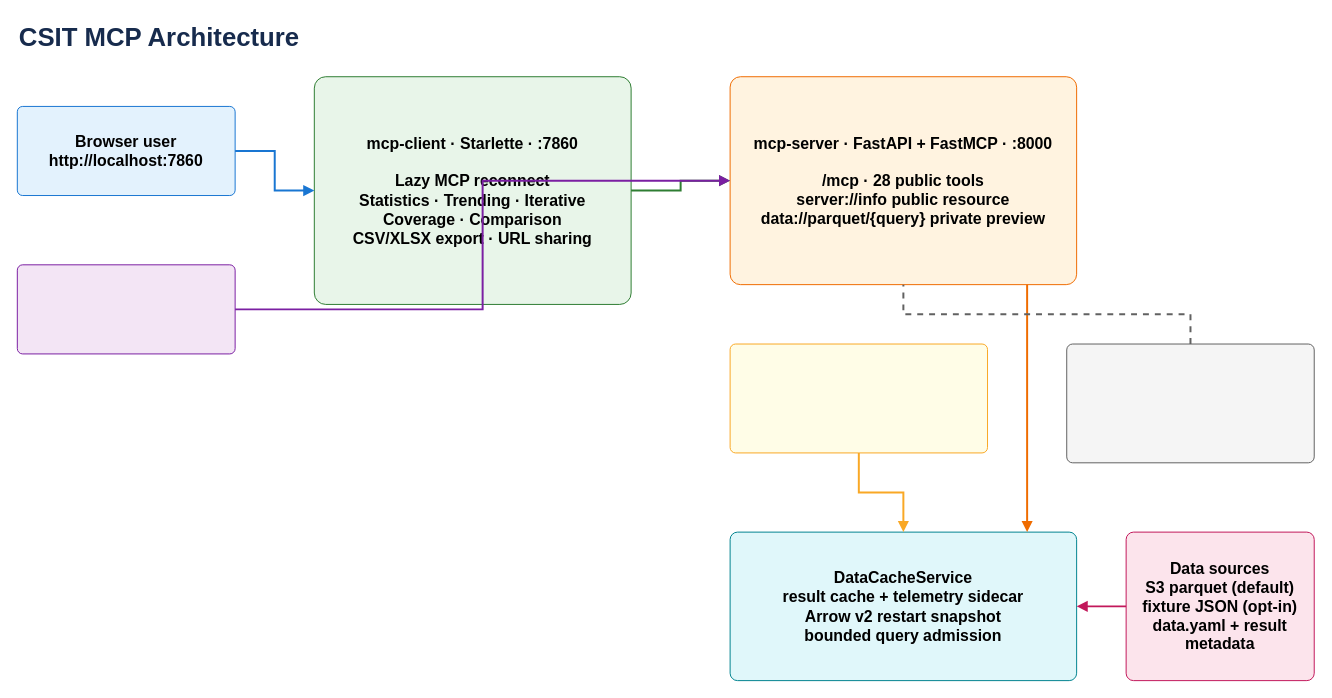
Image size: 1332x698. Some labels were removed from this diagram. Each missing label, with the centre of its shape:
Codex / Claude MCP HTTP clients: (125,309)
Operational HTTP /health · /ready POST /data/refresh: (858,398)
Runtime controls validated CSIT_* settings CORS allowlist structured JSON logs: (1190,403)
